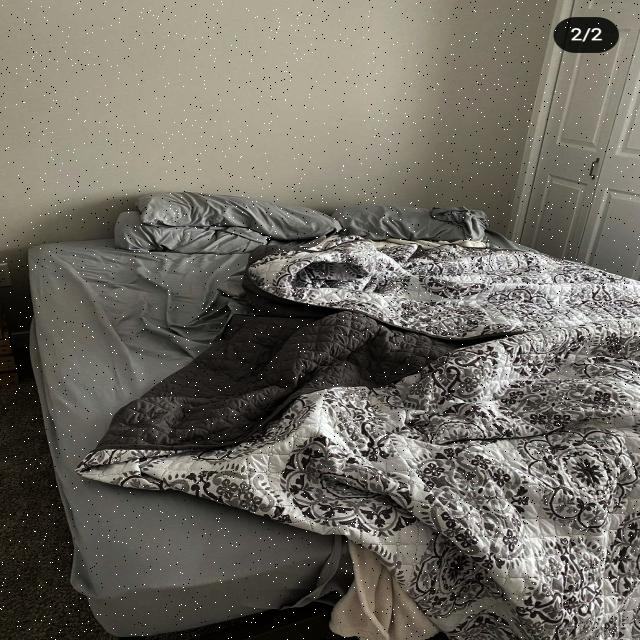bed: (47, 192, 640, 625)
